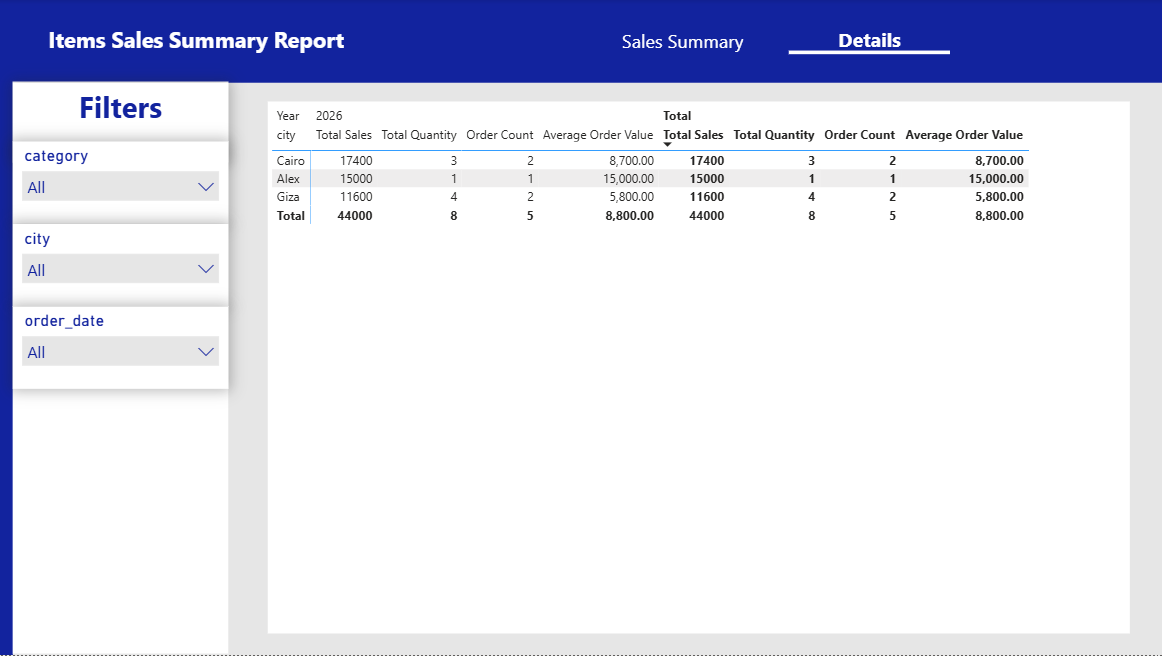

This screenshot's page, from the dashboard's own definition file:
{"tool":"powerbi","page":{"name":"Details","canvas":[1280,720],"ordinal":1},"visuals":[{"type":"shape","box":[0,0,1280,91.9],"z":0},{"type":"shape","box":[0,90.2,15.3,629.8],"z":1000},{"type":"textbox","box":[49.4,23.8,403.4,66.4],"z":2000},{"type":"shape","box":[15.3,90.2,236.6,628.1],"z":3000},{"type":"pivotTable","fields":{"Values":["orders.Total Sales","orders.Total Quantity","orders.Order Count","orders.Average Order Value"],"Columns":["orders.order_date.Variation.Date Hierarchy.Year","orders.order_date.Variation.Date Hierarchy.Quarter","orders.order_date.Variation.Date Hierarchy.Month","orders.order_date.Variation.Date Hierarchy.Day"],"Rows":["customers.city"]},"box":[294.5,112.3,946.4,583.8],"z":4000},{"type":"textbox","box":[15.3,91.9,236.6,86.8],"z":5000},{"type":"slicer","fields":{"Values":["products.category"]},"box":[15.3,156.6,236.6,90.2],"z":6000},{"type":"slicer","fields":{"Values":["customers.city"]},"box":[15.3,246.8,236.6,90.2],"z":7000},{"type":"slicer","fields":{"Values":["orders.order_date"]},"box":[15.3,337,236.6,90.2],"z":8000},{"type":"pageNavigator","box":[653.6,20.4,400,49.4],"z":9000}]}

Visuals, with their boxes in screenshot pixels (x1, y1, x2, y2), scaled from the page's 1280x720 canvas onto the 1162x656 screenshot:
shape: left=0, top=0, right=1161, bottom=84
shape: left=0, top=82, right=14, bottom=655
textbox: left=45, top=22, right=411, bottom=82
shape: left=14, top=82, right=229, bottom=654
pivotTable - orders.Total Sales x orders.Total Quantity: left=267, top=102, right=1127, bottom=634
textbox: left=14, top=84, right=229, bottom=163
slicer - products.category: left=14, top=143, right=229, bottom=225
slicer - customers.city: left=14, top=225, right=229, bottom=307
slicer - orders.order_date: left=14, top=307, right=229, bottom=389
pageNavigator: left=593, top=19, right=956, bottom=64
